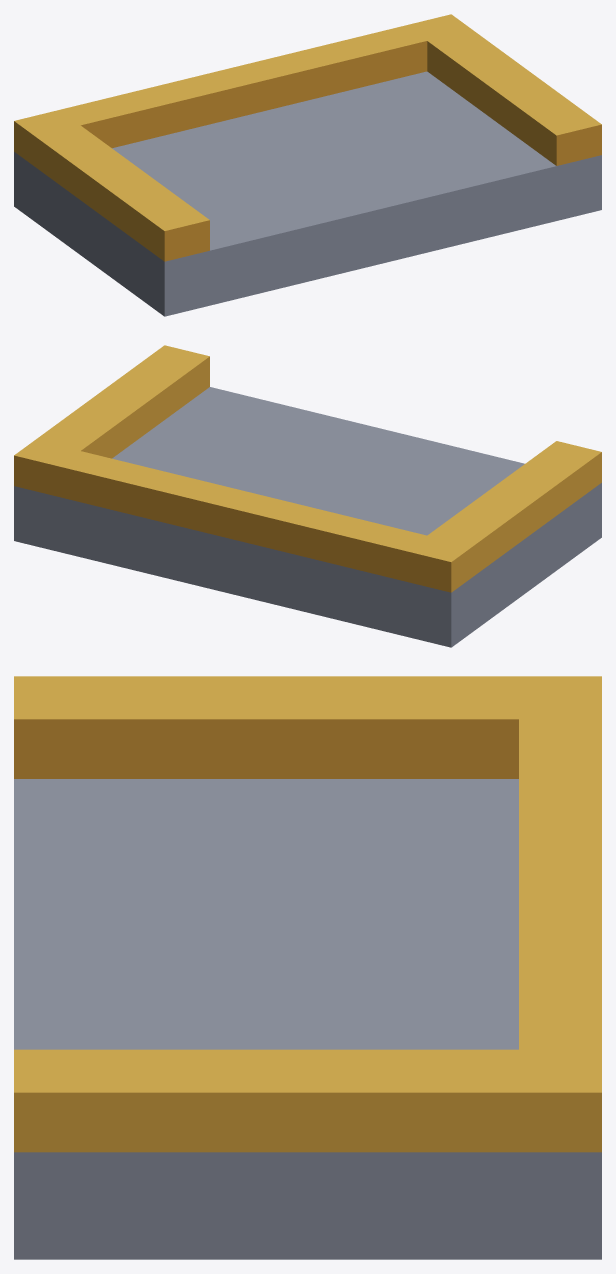
Rendered from squidgame_props_road3.fbx.
3 views of the same model, one above another, from view 1: azimuth 30°, elevation 25°; view 2: azimuth 150°, elevation 25°; view 3: azimuth 270°, elevation 25° (orthographic). The views are drawn at different scales.
Visible parts, largest first — view 1: squidgame_props_road3; view 2: squidgame_props_road3; view 3: squidgame_props_road3.
Boxes of the visible parts, left/top/right/bottom form: squidgame_props_road3: left=14, top=14, right=601, bottom=316; squidgame_props_road3: left=14, top=345, right=601, bottom=647; squidgame_props_road3: left=14, top=676, right=601, bottom=1259.
Bounding box in the file's own units: 2.41 × 0.4497 × 1.44.
